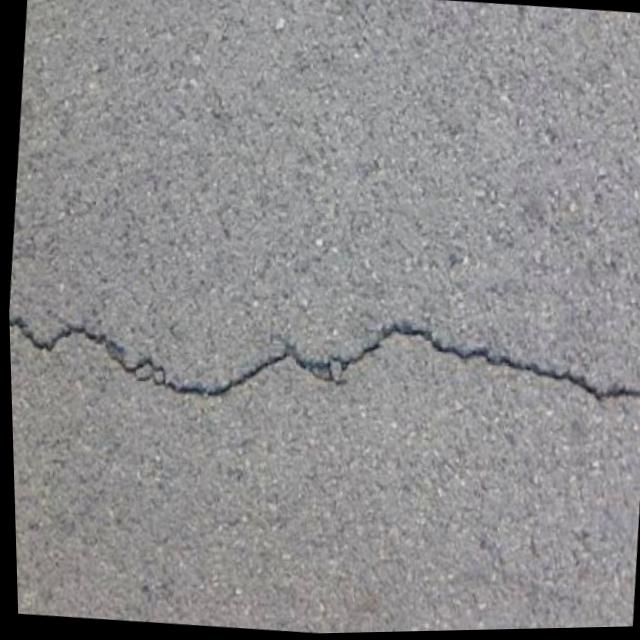Crack: (7, 271, 640, 474)
